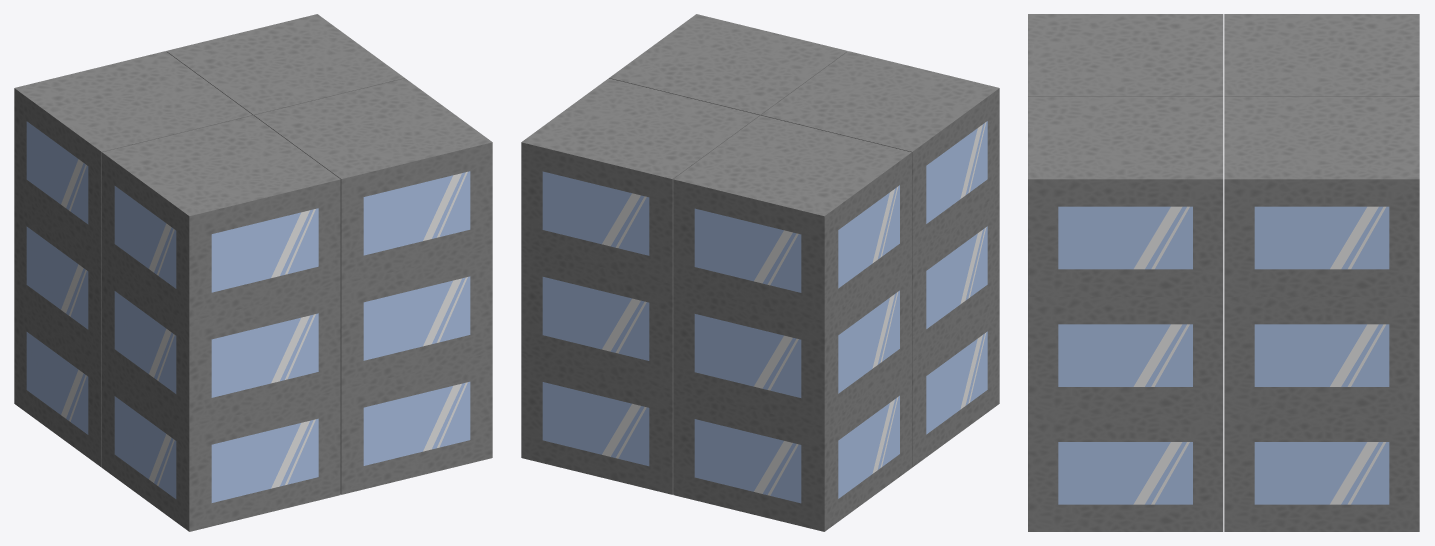
File: Building.glb
The picture shows the model from 3 angles, left to right: view 1: azimuth 30°, elevation 25°; view 2: azimuth 150°, elevation 25°; view 3: azimuth 270°, elevation 25°; orthographic projection. The views are drawn at different scales.
Parts seen in each view (by area): view 1: FullBuilding; view 2: FullBuilding; view 3: FullBuilding.
Boxes of the visible parts, x1,y1,x2,y2 form: FullBuilding: (14,14,492,531); FullBuilding: (521,14,999,531); FullBuilding: (1028,14,1419,531).
Size of what is drawn, in the model's own units: 11.92 by 11.83 by 11.94.
3 materials, 1 textured.
